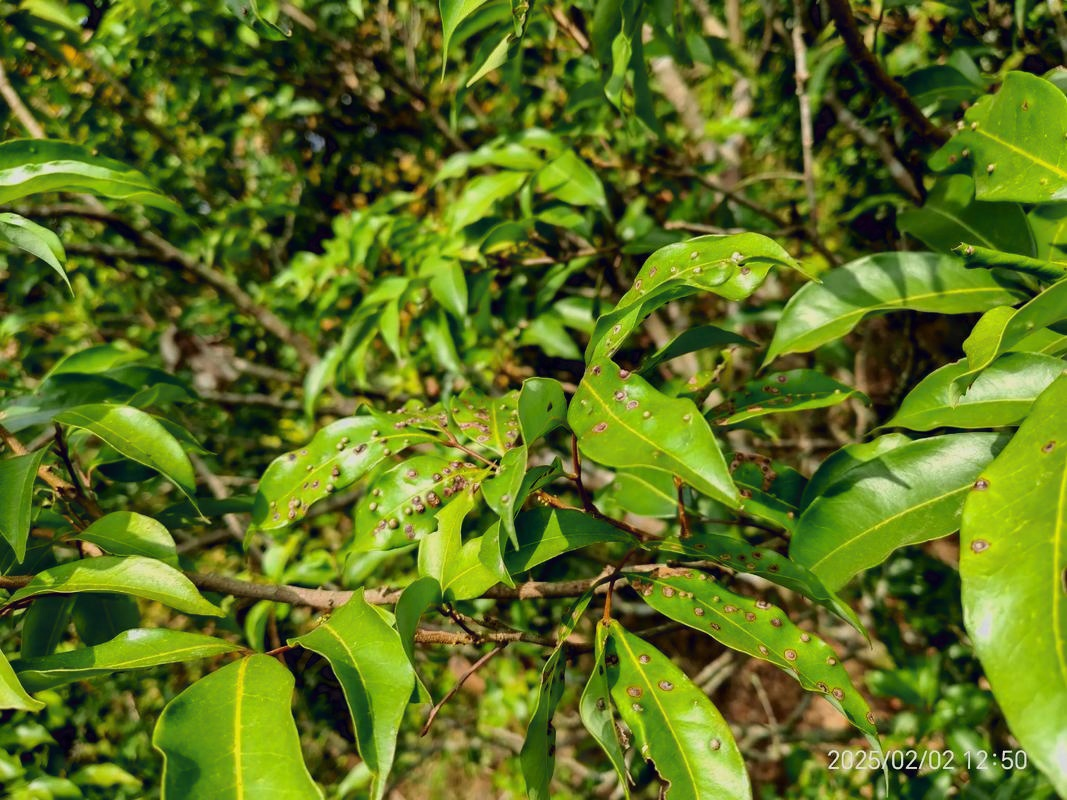Frost_Blight: (609, 513, 868, 742), (578, 212, 762, 483), (269, 374, 496, 528), (907, 49, 1039, 218), (928, 345, 1006, 603)
